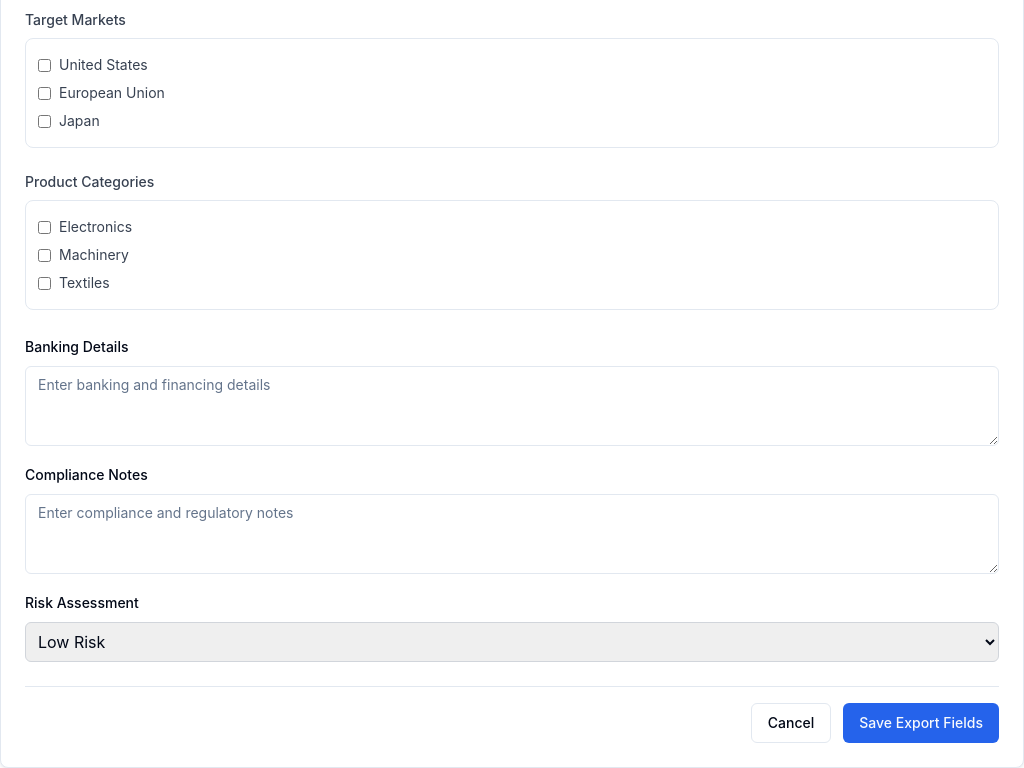
Test: ExportFieldsForm › shows saving state when save is in progress
The image size is (1024, 768).
(page scrolled)
Click the button "Save Export Fields".
click(921, 723)  # box [843,703,999,743]
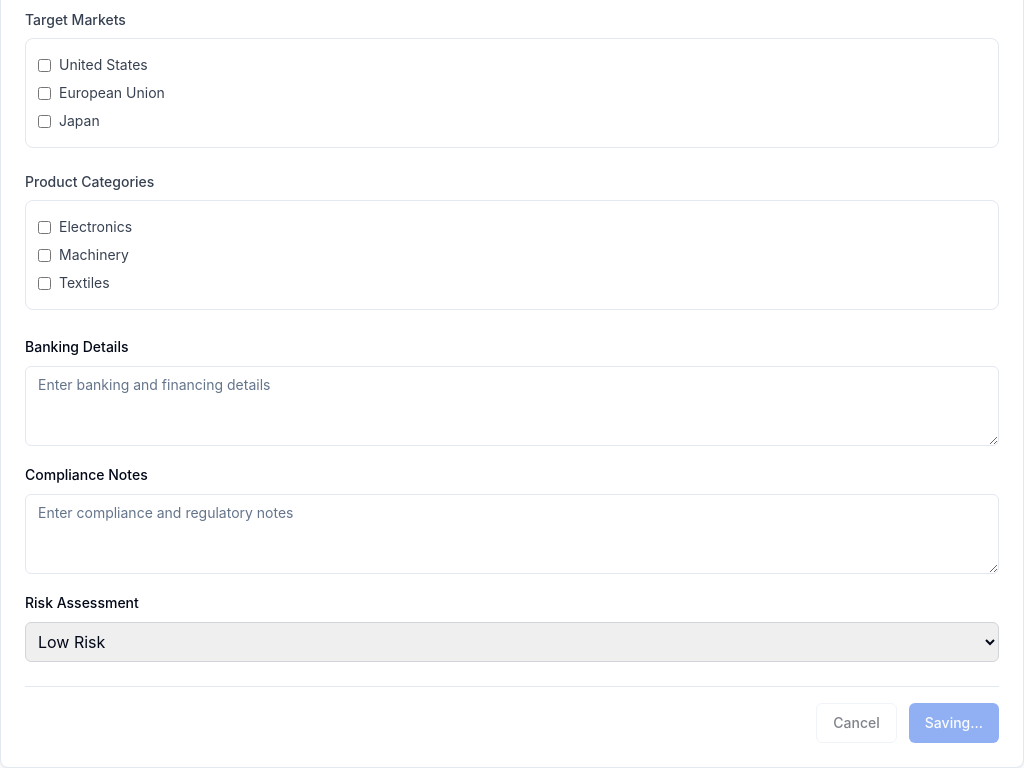
Check: the button "Saving..." is disabled, box [909,703,999,743]
